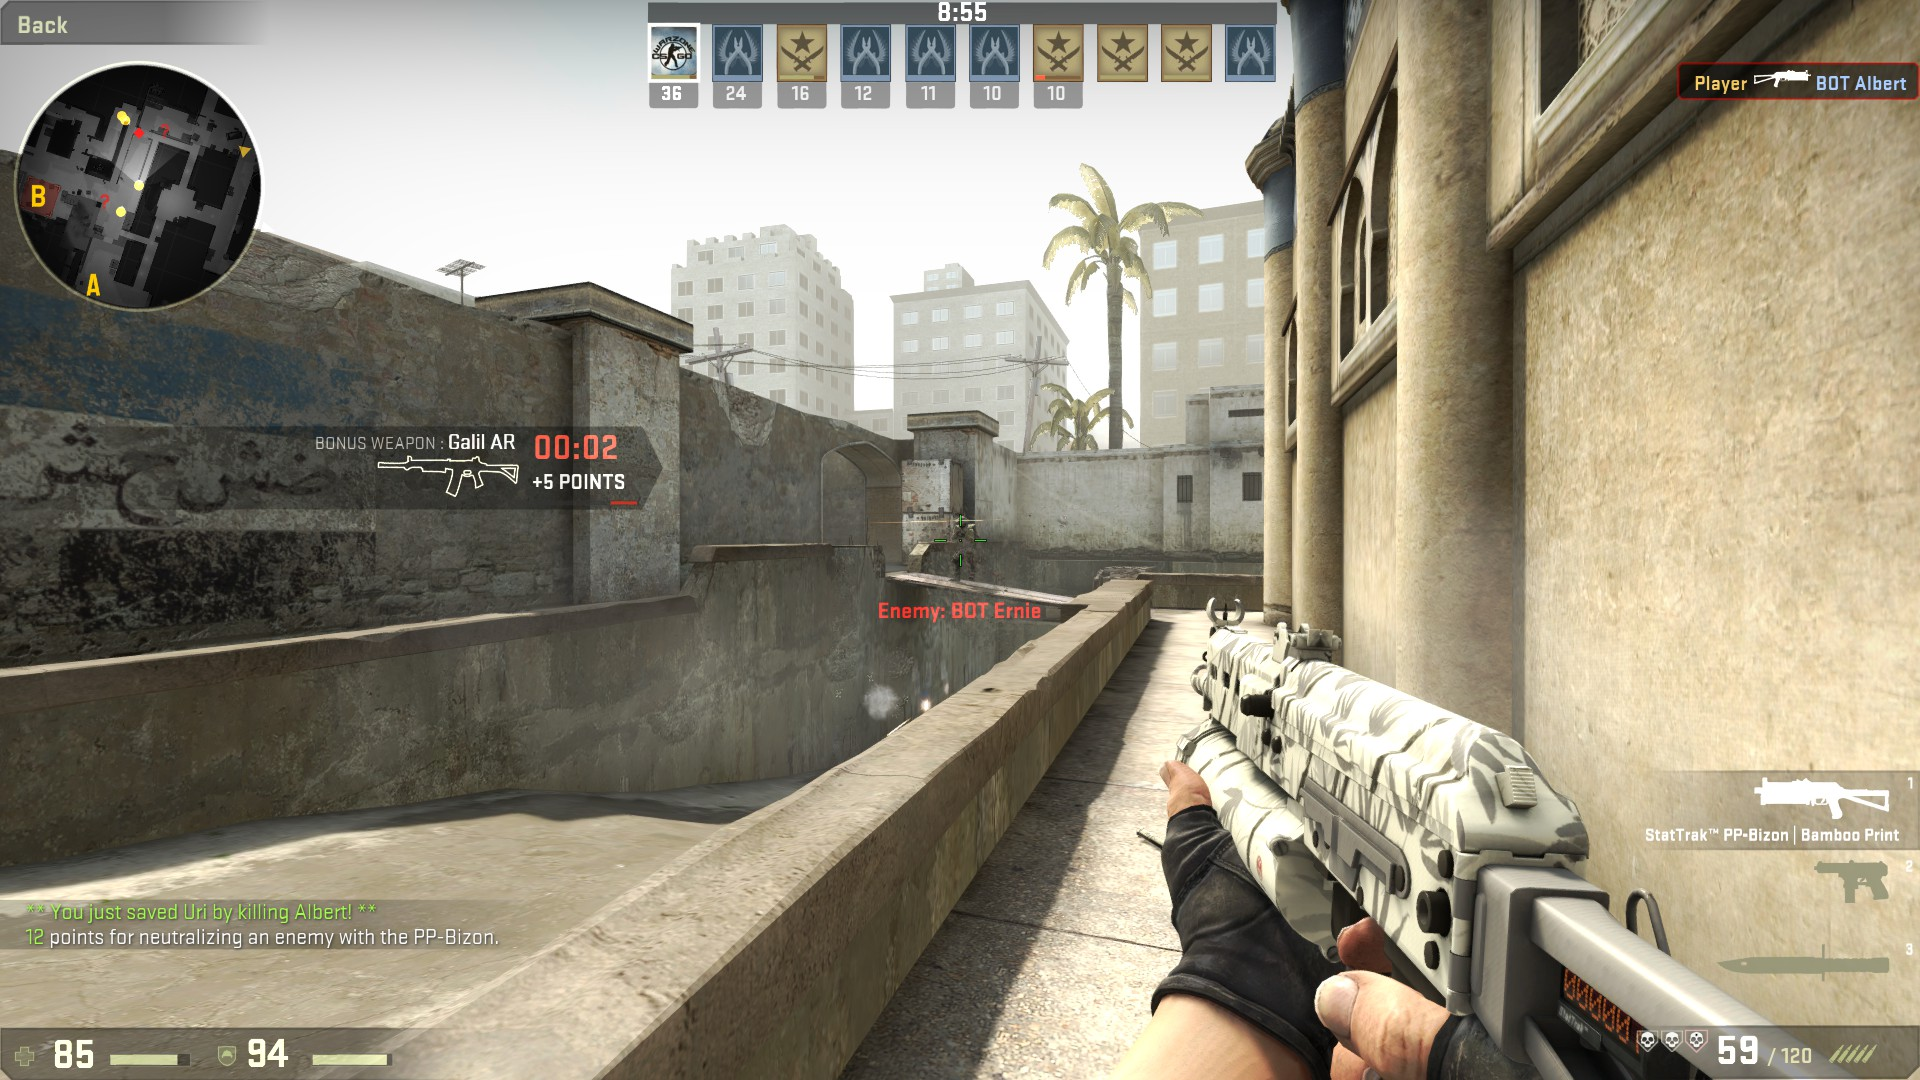c: (945, 518, 980, 585)
ch: (956, 516, 969, 531)
